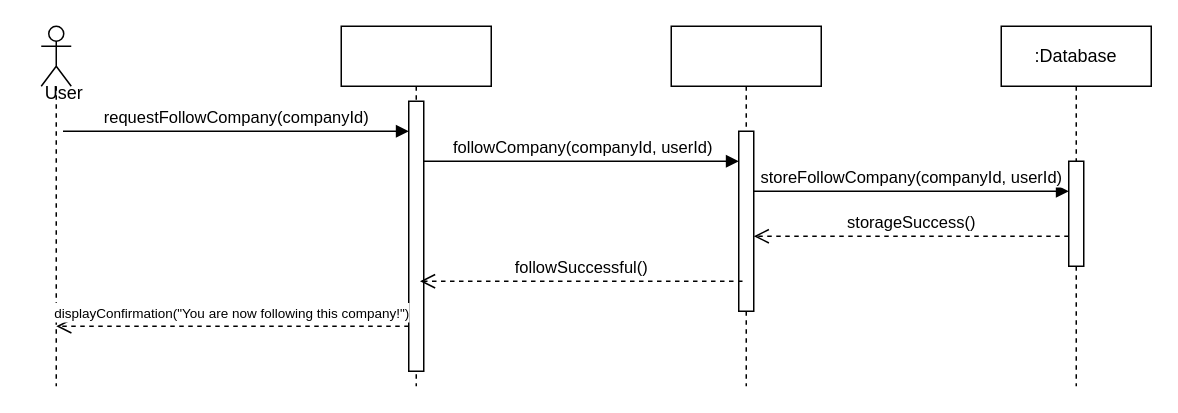
Image size: 1178x413. Some labels were removed from this diagram. The box of each missing label's shape, as (x1, y1, x2, y2) in pixels:
:App: (340, 25, 491, 386)
:AppServer: (670, 25, 821, 386)
